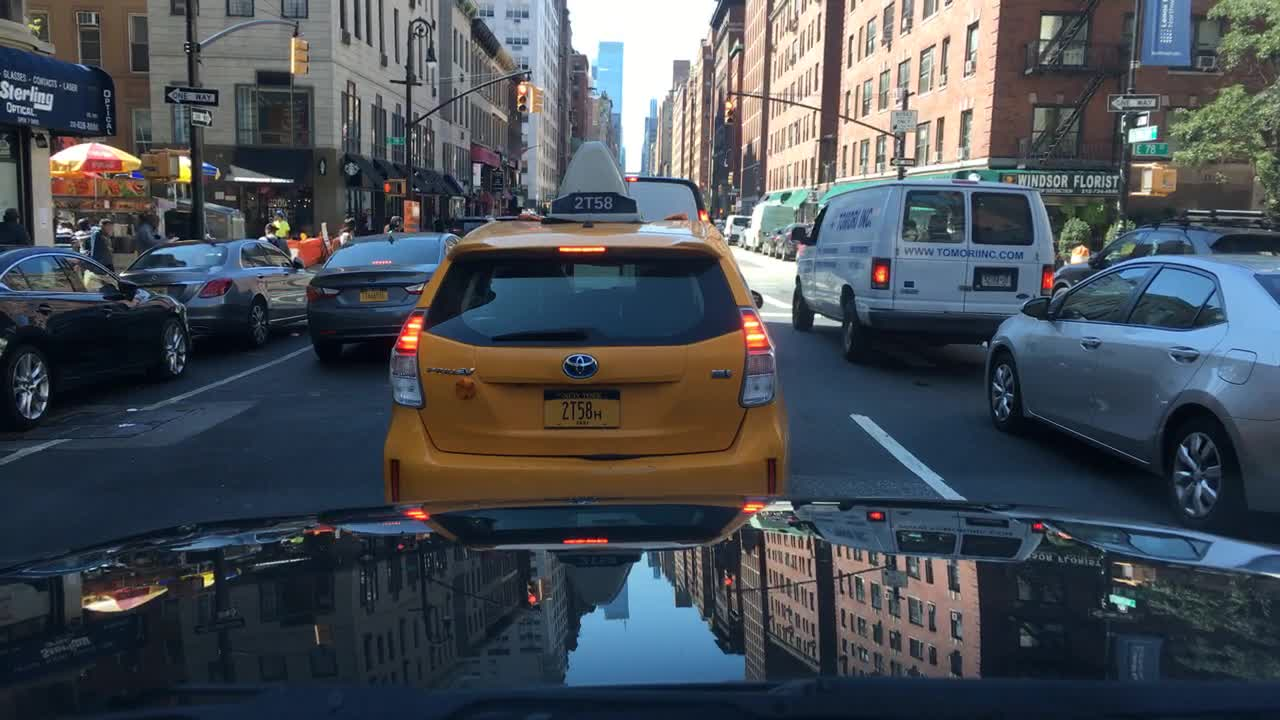car: (383, 140, 787, 500), (984, 208, 1278, 529), (790, 178, 1055, 363), (1, 243, 188, 421), (114, 232, 318, 348), (302, 231, 462, 363), (1055, 221, 1276, 297), (621, 172, 712, 220), (737, 200, 791, 248), (751, 198, 795, 252), (286, 231, 332, 268), (773, 221, 807, 259), (450, 210, 497, 232), (724, 213, 748, 244)
person: (0, 201, 28, 240), (259, 221, 285, 246), (275, 208, 288, 250), (384, 210, 403, 229)
traffic light: (136, 151, 182, 183), (1139, 162, 1178, 199), (291, 31, 308, 80), (530, 83, 547, 112), (723, 100, 738, 125), (723, 167, 736, 188), (517, 86, 527, 113)
traffic sign: (1107, 90, 1158, 117), (165, 86, 221, 108), (888, 105, 920, 134), (1128, 140, 1170, 159), (1124, 122, 1158, 144), (192, 110, 217, 127), (885, 156, 917, 167)
